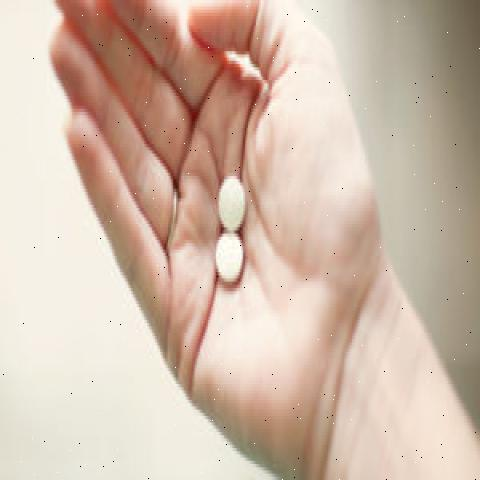Pill: (206, 158, 253, 230), (205, 231, 248, 291)
